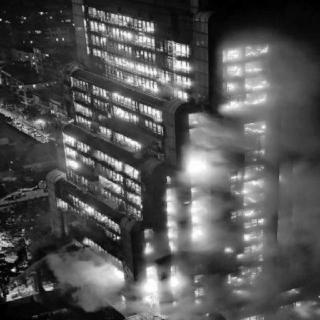Fire: (55, 8, 308, 316)
